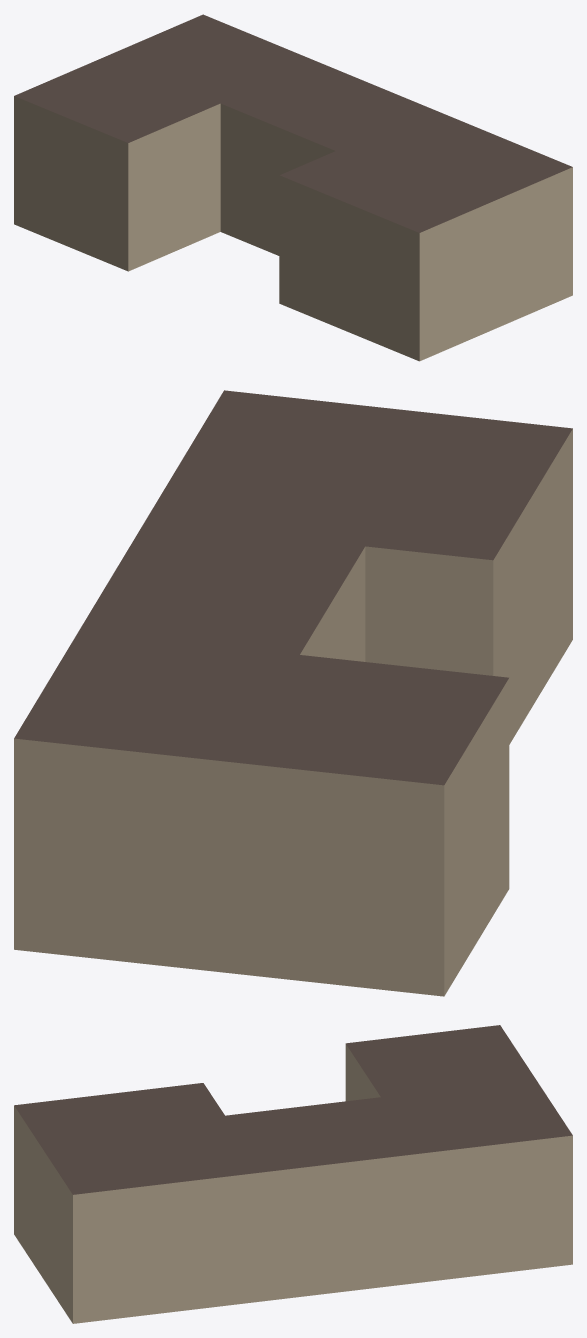
3 renders of one model, top to bottom at view 1: azimuth 30°, elevation 25°; view 2: azimuth 150°, elevation 25°; view 3: azimuth 270°, elevation 25°, orthographic. The views are drawn at different scales.
Visible parts, largest first — view 1: HP-w1202493225; view 2: HP-w1202493225; view 3: HP-w1202493225.
Boxes of the visible parts, x1,y1,x2,y2 form: HP-w1202493225: (14, 14, 572, 361); HP-w1202493225: (14, 390, 572, 996); HP-w1202493225: (14, 1025, 572, 1323).
Bounding box in the file's own units: 25.41 × 9 × 35.34.
